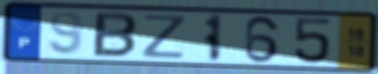1: (202, 12, 225, 64)
5: (293, 17, 334, 65)
6: (243, 14, 283, 65)
9: (47, 10, 86, 57)
B: (90, 10, 139, 60)
Z: (140, 13, 189, 61)
